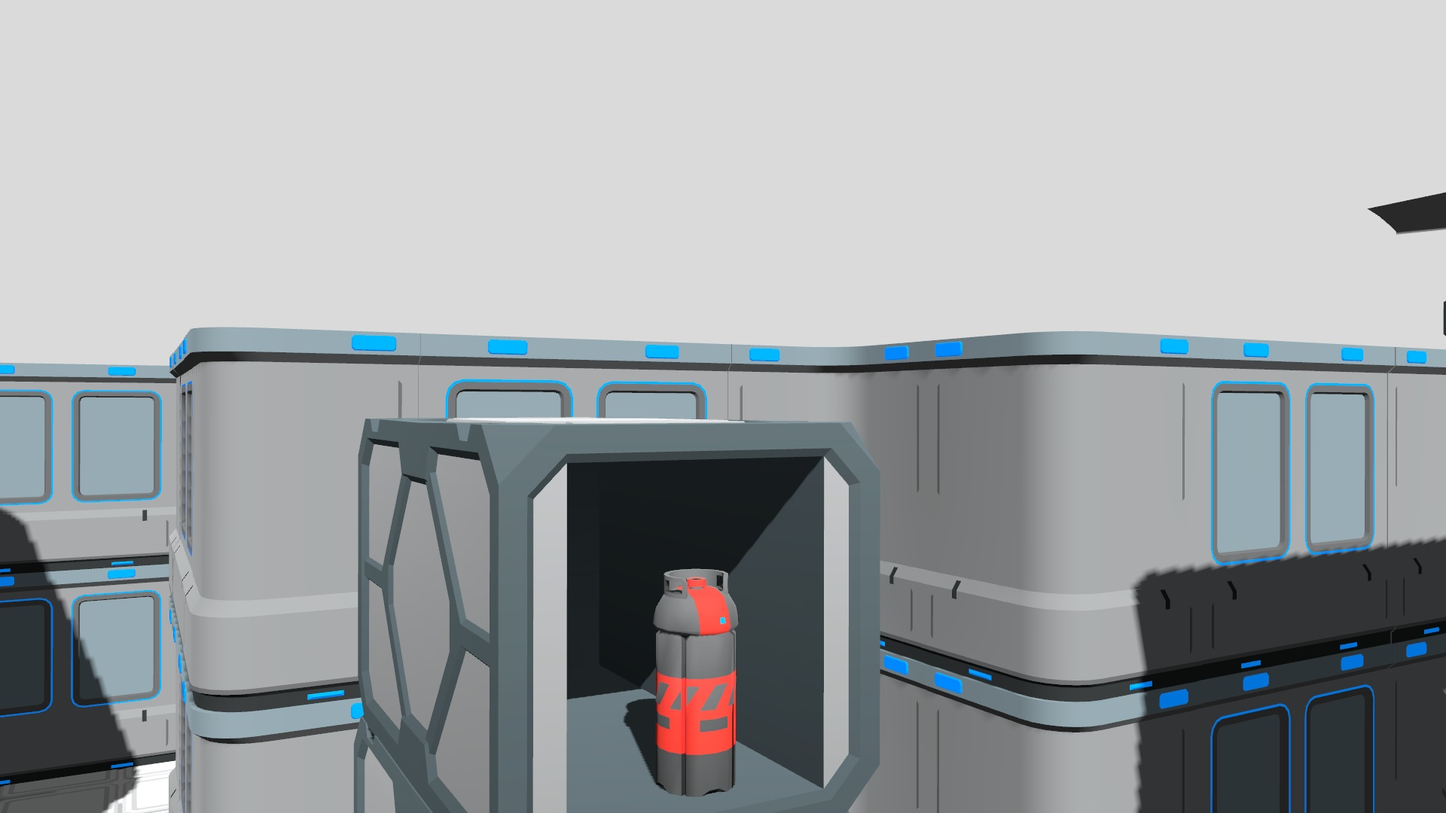red_barrel: (651, 560, 751, 798)
